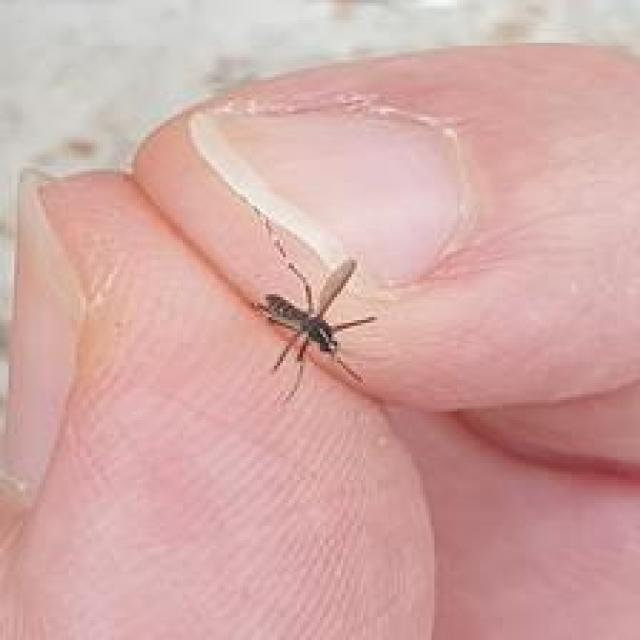Aedes albopictus: (249, 219, 377, 404)
